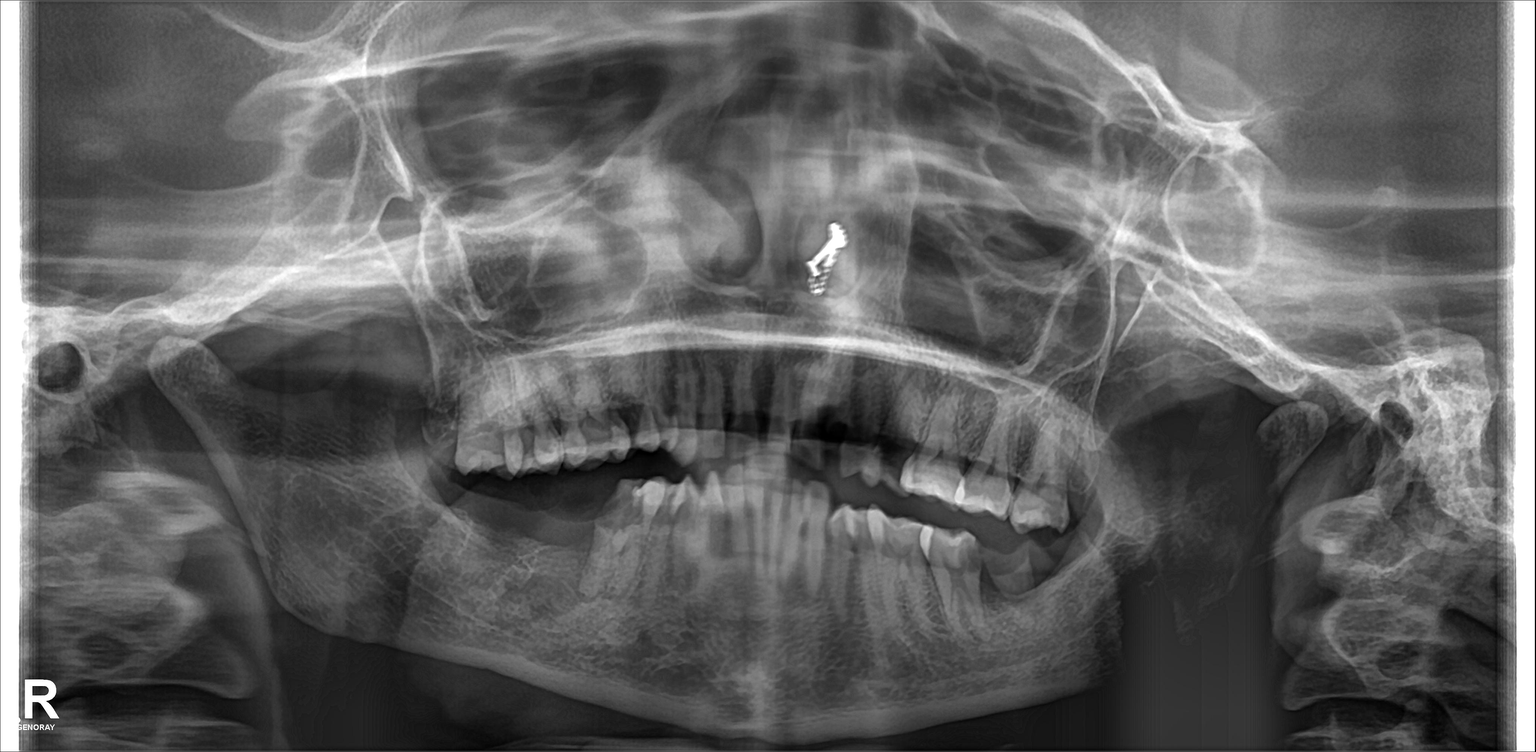Dental Caries: (592, 490, 644, 536)
Missing Tooth: (462, 486, 495, 587), (566, 493, 596, 593), (501, 493, 530, 585), (1043, 530, 1083, 596), (536, 499, 562, 591)
Retained Root: (983, 540, 1032, 600)
